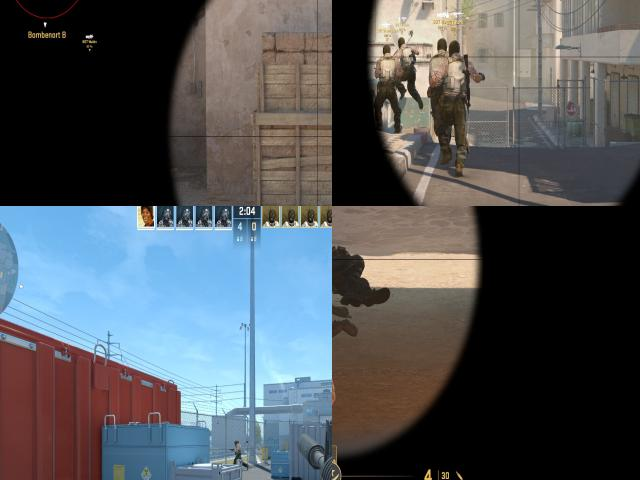Dead: (332, 247, 388, 303)
T: (442, 41, 468, 166), (375, 46, 400, 128), (431, 38, 449, 132), (394, 35, 418, 99), (235, 440, 242, 464)
T-Head: (449, 41, 463, 60), (436, 38, 448, 50), (381, 45, 391, 57), (398, 37, 407, 47), (235, 441, 238, 445)
